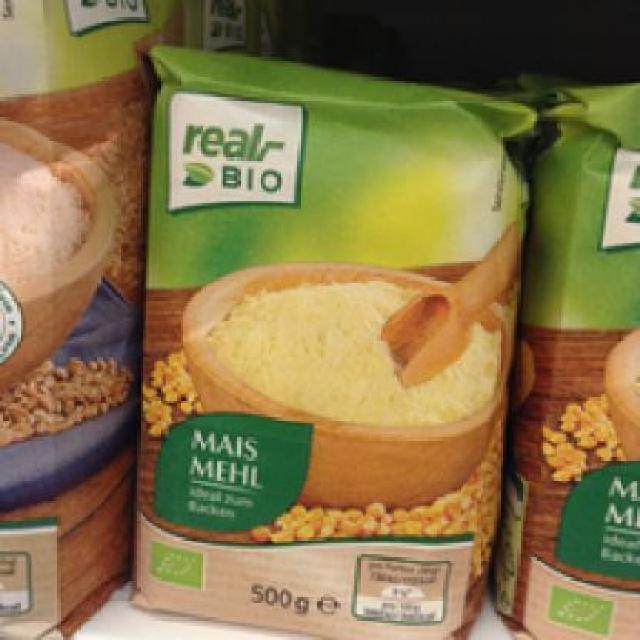Flour: (126, 39, 528, 635), (494, 79, 634, 635)
